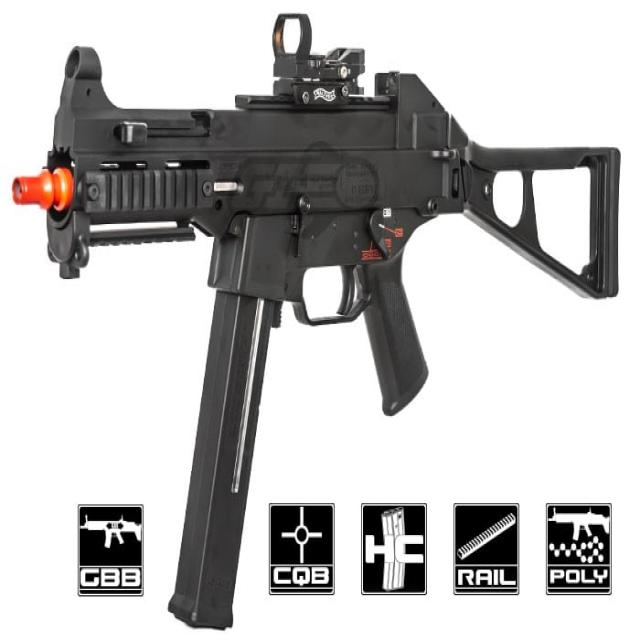SMG: (11, 13, 624, 634)
